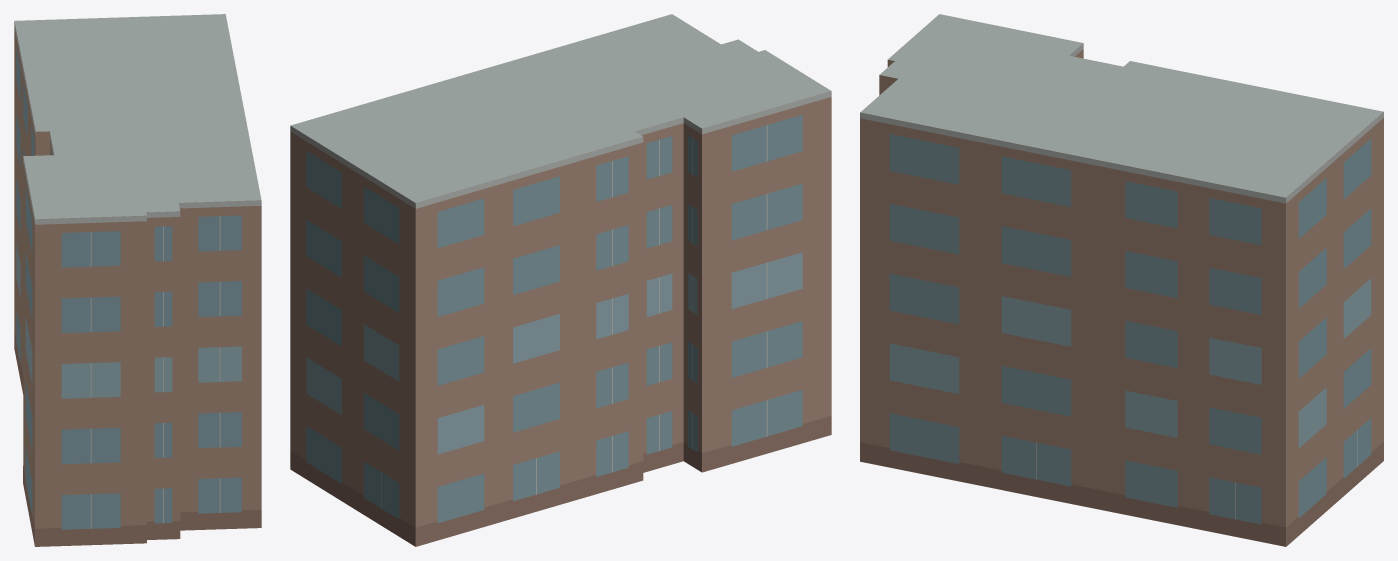
The model's file is survey-upis-32533186.glb.
The picture shows the model from 3 angles, left to right: view 1: azimuth 30°, elevation 25°; view 2: azimuth 150°, elevation 25°; view 3: azimuth 270°, elevation 25°; orthographic projection. The views are drawn at different scales.
Parts seen in each view (by area): view 1: survey-upis-32533186.tmp; view 2: survey-upis-32533186.tmp; view 3: survey-upis-32533186.tmp.
Boxes of the visible parts, <box> form: survey-upis-32533186.tmp: <box>14,14,261,546</box>; survey-upis-32533186.tmp: <box>290,14,831,546</box>; survey-upis-32533186.tmp: <box>860,14,1383,546</box>.
Bounding box in the file's own units: 16.37 × 14.5 × 19.72.
